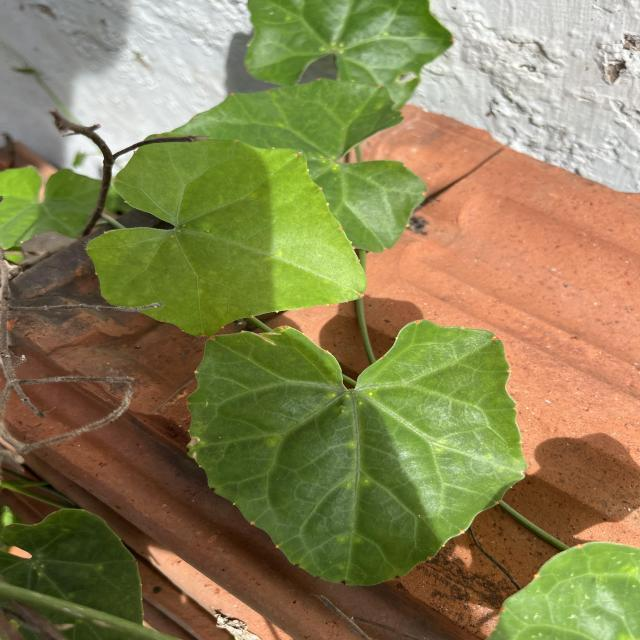Coccinia grandis: (183, 318, 532, 590), (83, 130, 370, 339)
